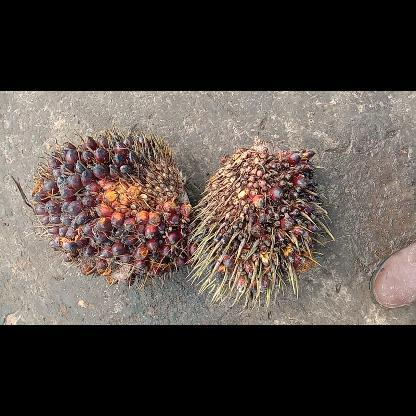Kurang masak: (31, 125, 198, 287)
TBS abnormal: (184, 140, 336, 310)
